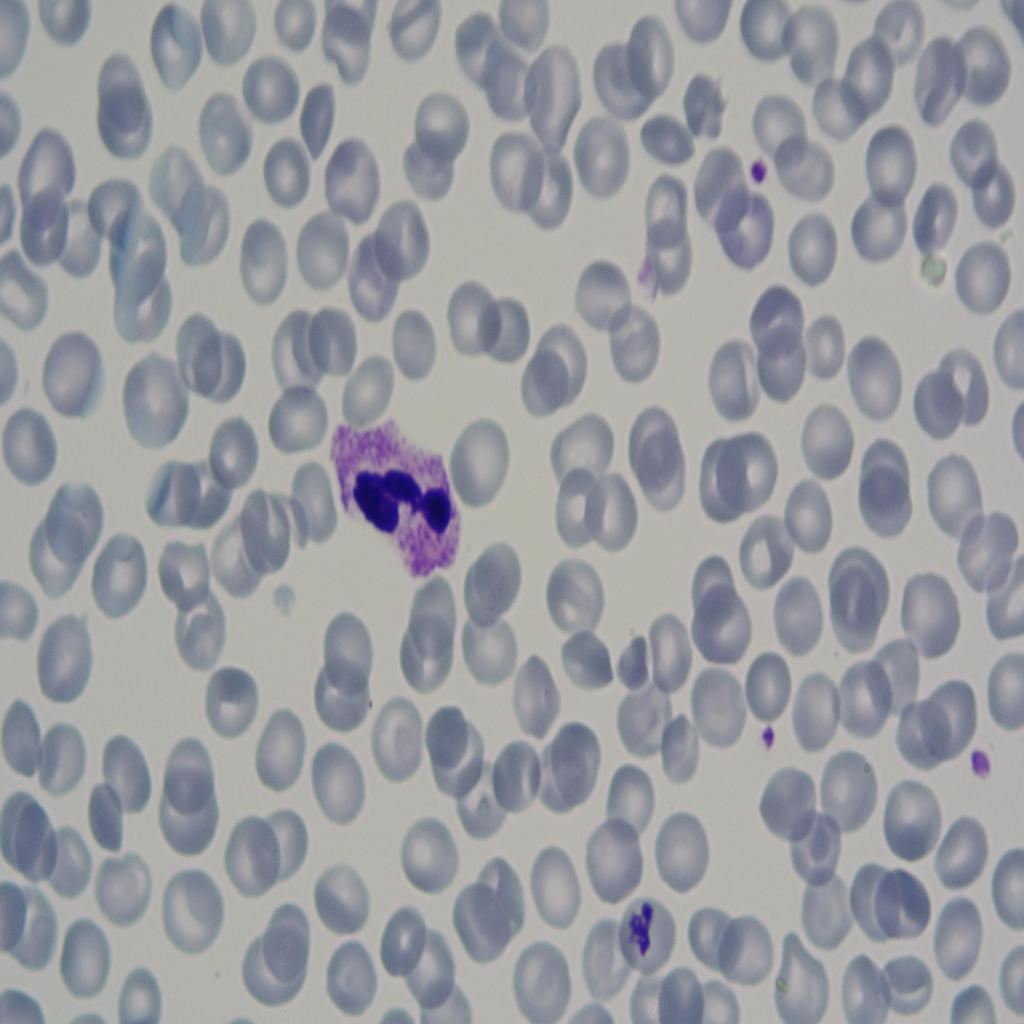Eosinofil: (318, 404, 468, 583)
Platelet: (743, 145, 776, 192), (969, 736, 994, 798), (761, 711, 791, 758)
